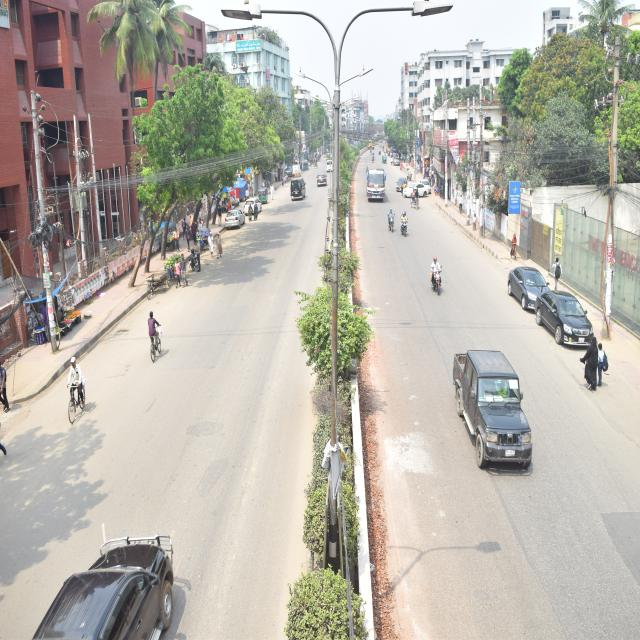bus: (363, 164, 394, 214)
car: (0, 513, 211, 640), (532, 276, 625, 376), (502, 246, 570, 326), (212, 191, 249, 241), (242, 188, 270, 229), (405, 173, 436, 199), (312, 168, 336, 195), (396, 172, 413, 198)
microbus: (290, 164, 310, 225), (321, 154, 337, 172)
motorbike: (420, 248, 460, 312), (383, 206, 400, 245), (399, 206, 411, 252)
pickup-van: (427, 318, 542, 489)
